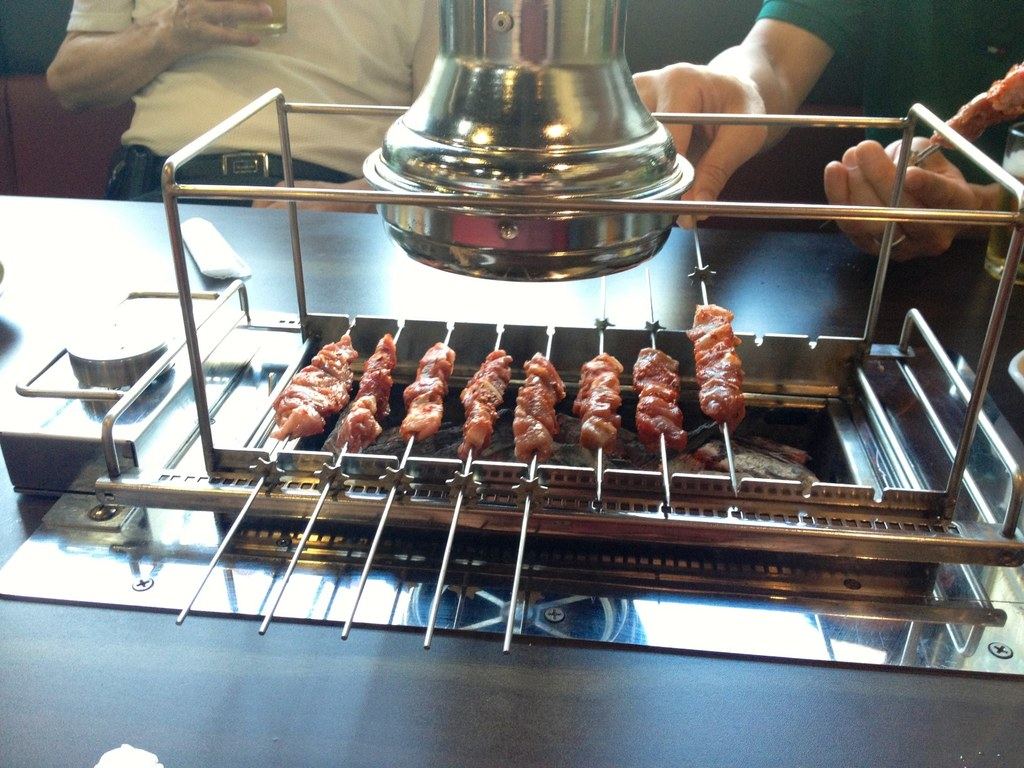person: (45, 0, 444, 205)
